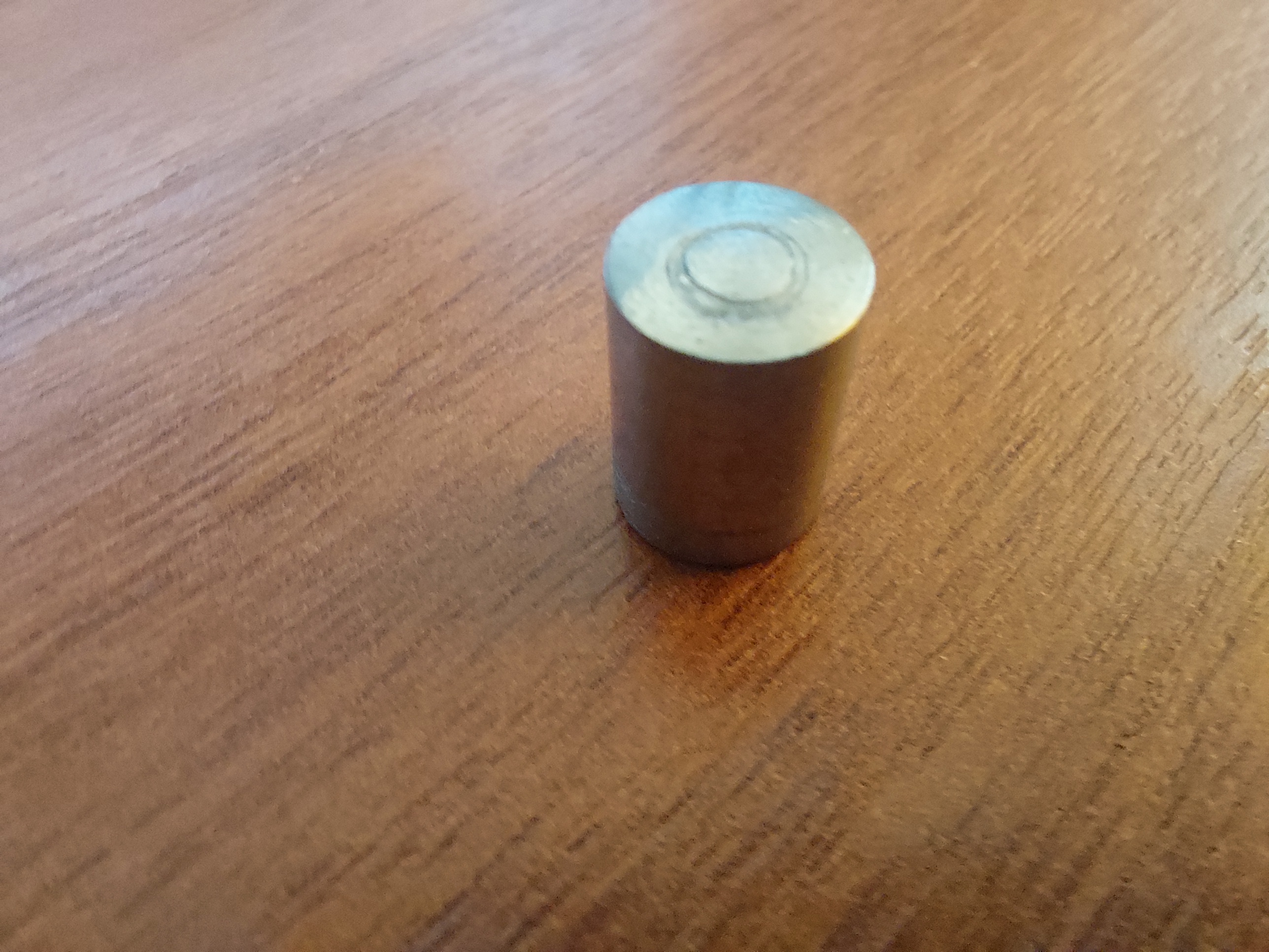tablet: (568, 171, 876, 595)
